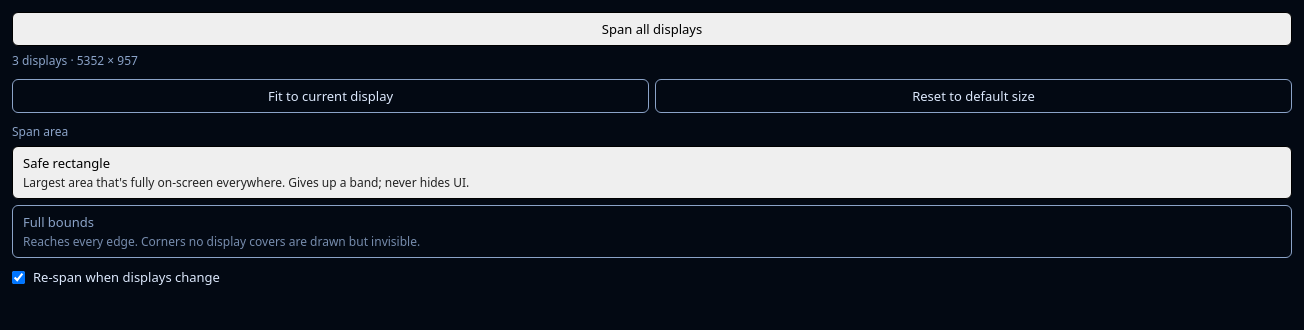
Test case: WindowSpanControls › distinguishes an action failure from a read failure
The width and height of the screenshot is (1304, 330).
Expected: the text "3 displays · 5352 × 957" is shown, [12,52,138,69]
Click the button with aria-label "Span the Sparkle window". click: [652, 29]
box: [12,12,1292,46]
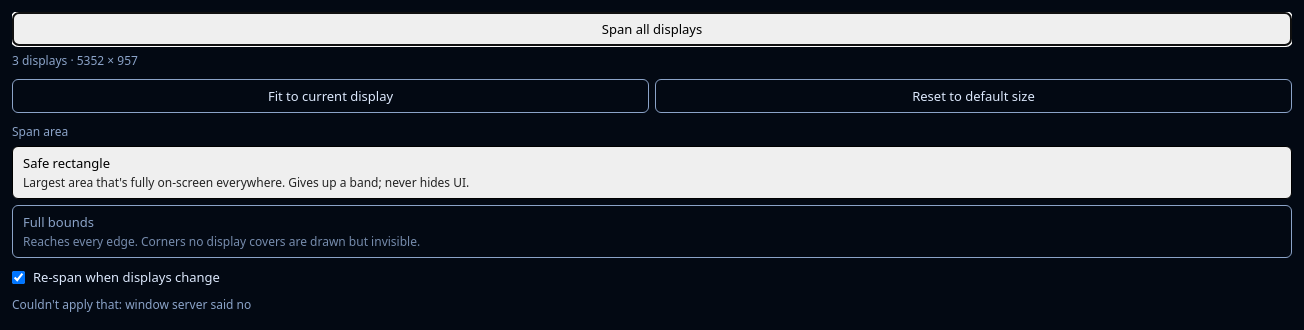
Result: the text "Couldn't apply that: window server said no" is shown at [12,296,251,313]
